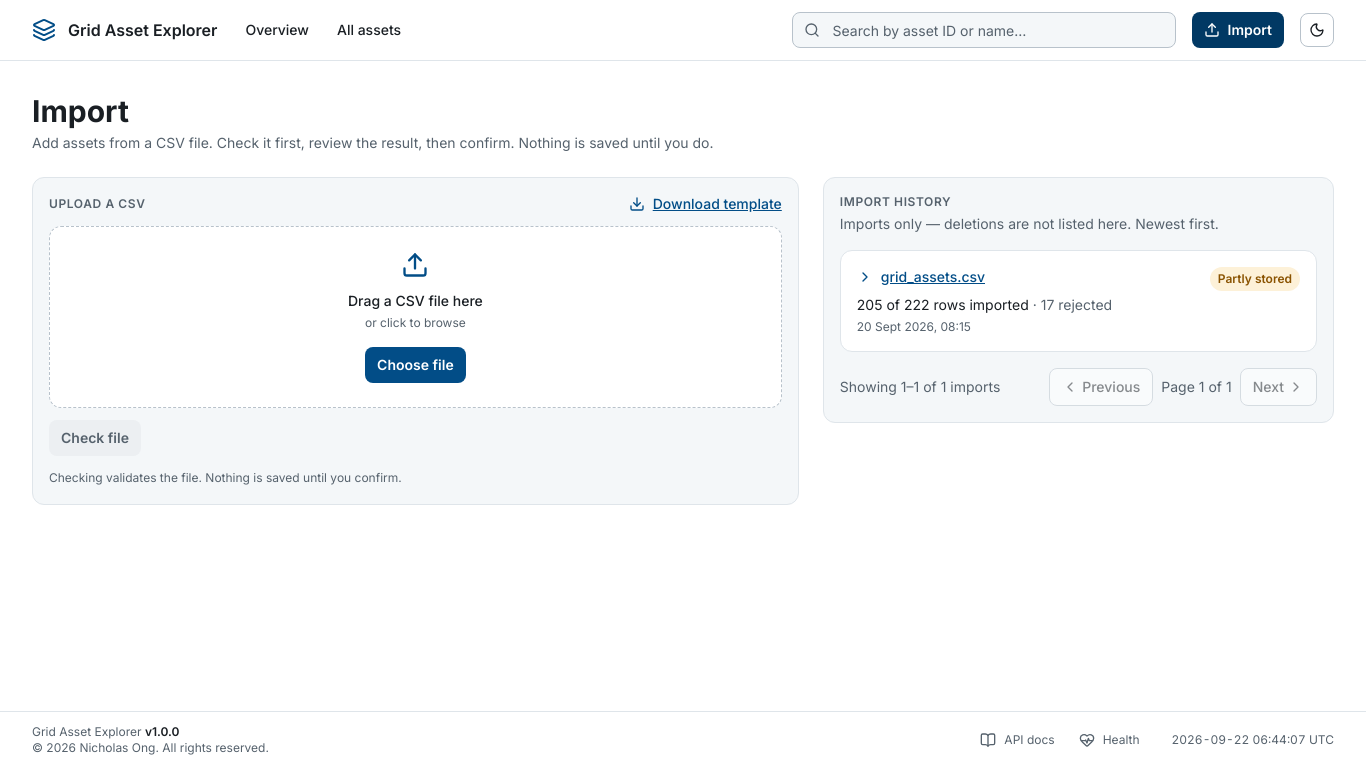
Scenario: Import history › opens an import to show who uploaded it and its rejected rows (no download button here)
Click the button with aria-label "grid_assets.csv, show details": point(921, 277) [857,267,985,287]
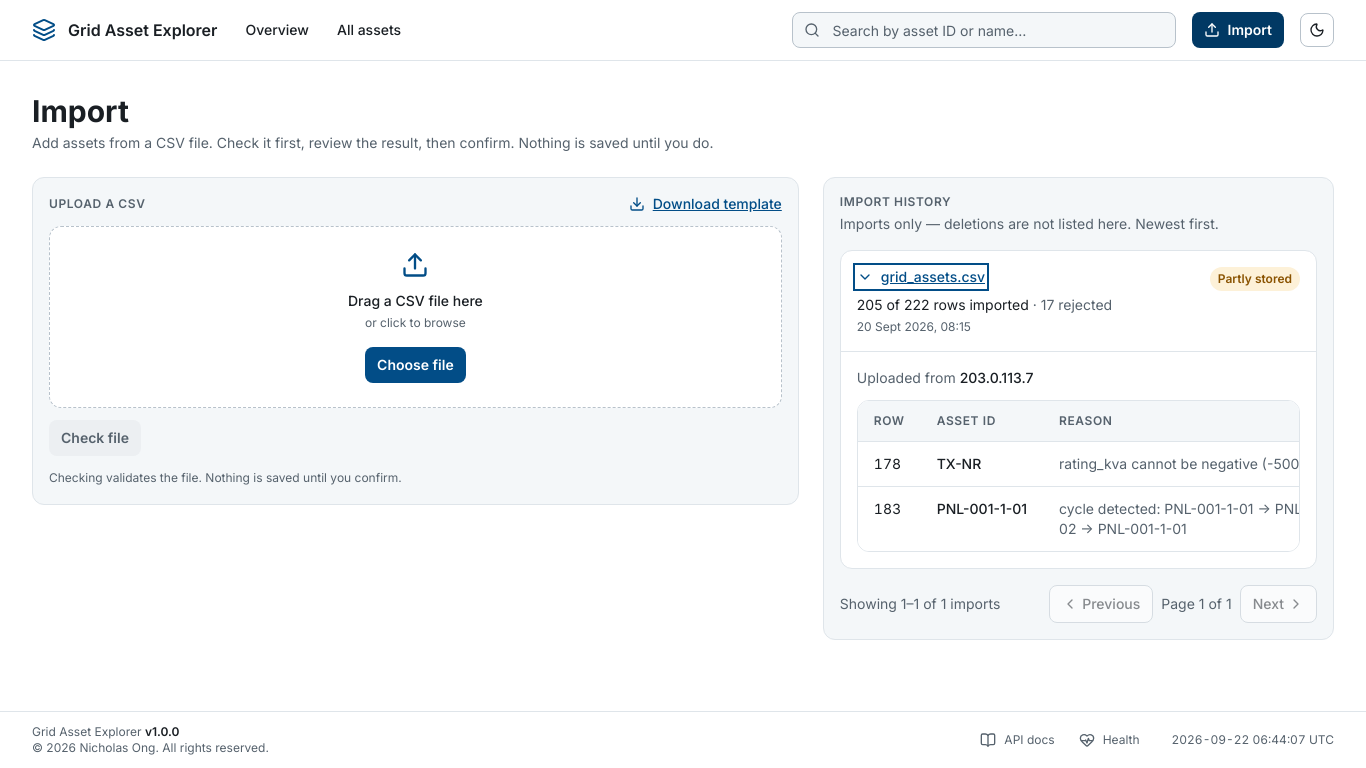
expect the button named "grid_assets.csv, show details" is expanded: met, box [857,267,985,287]
expect the text "203.0.113.7" is shown: met, box [960,369,1033,386]
expect the text "TX-NR" is shown: met, box [921,442,1043,486]
